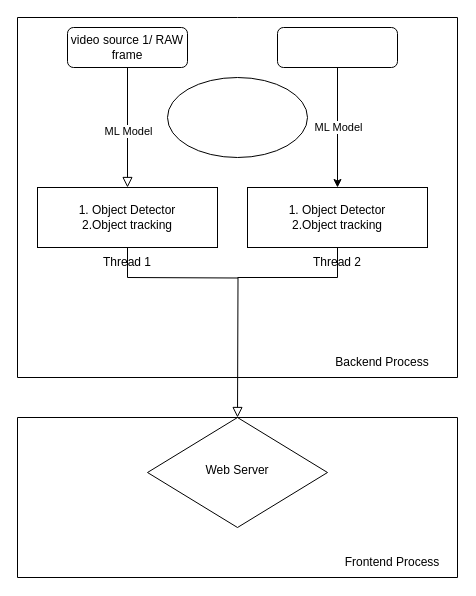
The diagram is 476 pixels wide and 596 high, and some of its shapes have lost their labels. The shapes that lost their labels are listed below. From the top down, each one's box as (x1, y1, x2, y2) in pixels, then its label:
(276, 26, 398, 68): video source 2/ RAW frame
(166, 76, 308, 158): class Streaming ()
